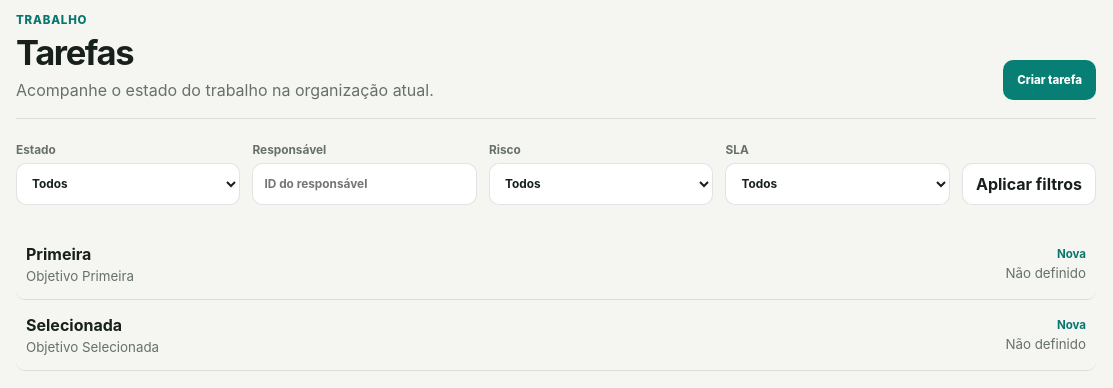
Test case: TasksWorkspace › ignores a stale response during rapid status filtering
Check: the text "Primeira" is shown, box [26,244,91,264]
Select "Triadas" in the dropdown labelled "Estado". click: (128,184)
box: [16,163,240,205]
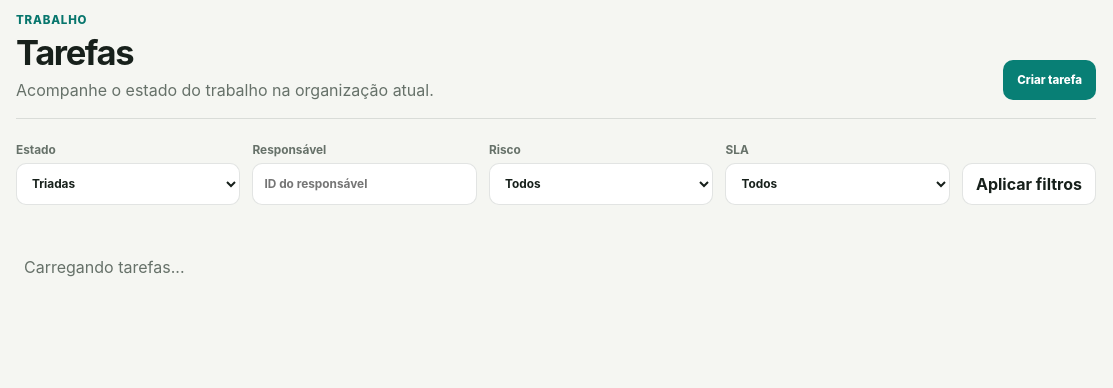
Select "Concluídas" in the dropdown labelled "Estado". click: (128,184)
box: [16,163,240,205]
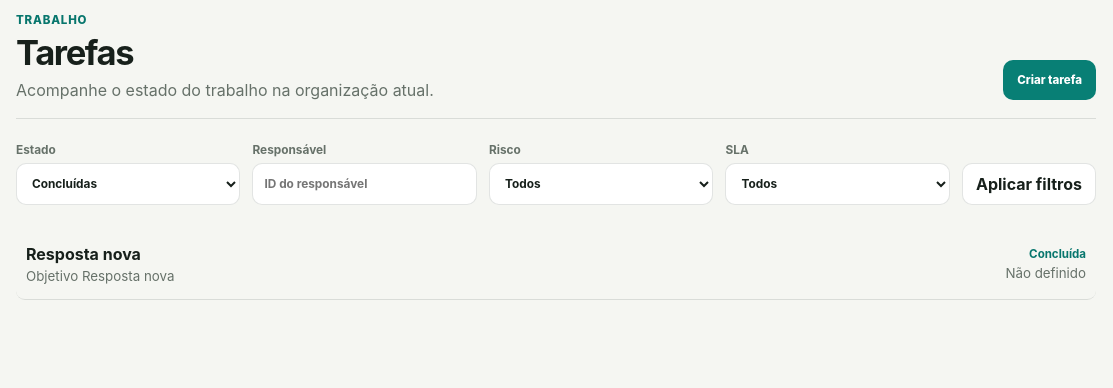
Check: the text "Resposta nova" is shown, box [26,244,141,264]
